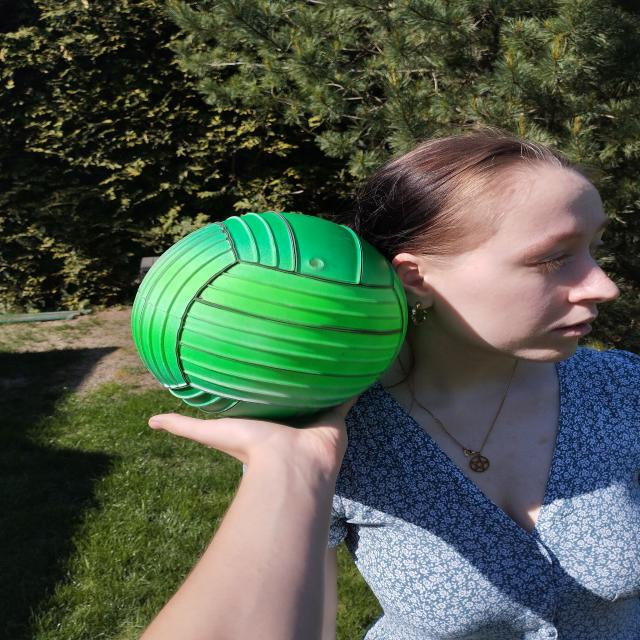zielona: (135, 211, 407, 420)
